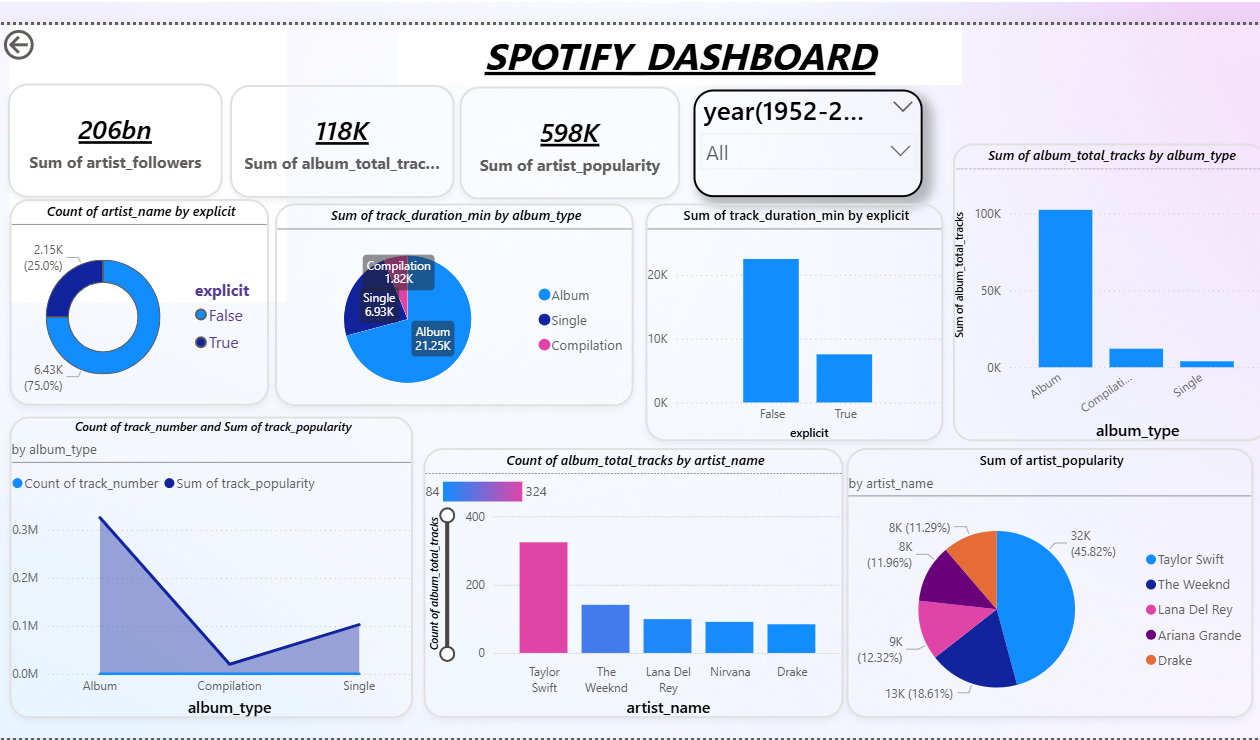

Layout of this report page (visuals, bound fields, positions):
{"tool":"powerbi","page":{"name":"Spotify_Dashboard","canvas":[1280,720],"ordinal":0},"visuals":[{"type":"textbox","box":[10,0,280,280],"z":0},{"type":"textbox","box":[402.8,0,569.3,60.6],"z":1000},{"type":"card","fields":{"Values":["spotify_data clean.artist_followers"]},"box":[9.1,59.1,216.5,115.1],"z":2000},{"type":"card","fields":{"Values":["spotify_data clean.album_total_tracks"]},"box":[233.3,60.4,226.4,113.9],"z":3000},{"type":"card","fields":{"Values":["spotify_data clean.artist_popularity"]},"box":[464.3,61.4,222.9,114.3],"z":4000},{"type":"donutChart","fields":{"Category":["spotify_data clean.explicit"],"Y":["spotify_data clean.artist_name"]},"box":[10.6,175.6,262,209],"z":5000},{"type":"columnChart","fields":{"Category":["spotify_data clean.album_type"],"Y":["spotify_data clean.album_total_tracks"]},"box":[963.4,119.4,317,300.5],"z":6000},{"type":"slicer","fields":{"Values":["spotify_data clean.year"]},"box":[701.4,65.7,231.4,108.6],"z":7000},{"type":"clusteredColumnChart","fields":{"Category":["spotify_data clean.artist_name"],"Y":["spotify_data clean.album_total_tracks"]},"box":[428.5,427,424,272.6],"z":8000},{"type":"areaChart","fields":{"Category":["spotify_data clean.album_type"],"Y":["spotify_data clean.track_number","spotify_data clean.track_popularity"]},"box":[10.6,395.2,407.3,304.4],"z":9000},{"type":"pieChart","fields":{"Category":["spotify_data clean.artist_name"],"Y":["spotify_data clean.artist_popularity"]},"box":[855.5,427,410.3,272.6],"z":10000},{"type":"lineStackedColumnComboChart","fields":{"Category":["spotify_data clean.explicit"],"Y":["spotify_data clean.track_duration_min"]},"box":[653.2,179.8,300.5,240.2],"z":11000},{"type":"pieChart","fields":{"Category":["spotify_data clean.album_type","spotify_data clean.track_duration_min"],"Y":["spotify_data clean.track_duration_min"]},"box":[278.6,180.2,361.9,204.4],"z":12000},{"type":"actionButton","box":[0,0,100,40],"z":13000}]}

Visuals, with their boxes on the page's 1280x720 design canvas (x1, y1, x2, y2). These are canvas units, not pixel positions in the 1260x740 screenshot, which may show the page scaled, cropped or inside an application window:
textbox: x1=10, y1=0, x2=290, y2=280
textbox: x1=403, y1=0, x2=972, y2=61
card - spotify_data clean.artist_followers: x1=9, y1=59, x2=226, y2=174
card - spotify_data clean.album_total_tracks: x1=233, y1=60, x2=460, y2=174
card - spotify_data clean.artist_popularity: x1=464, y1=61, x2=687, y2=176
donutChart - spotify_data clean.explicit x spotify_data clean.artist_name: x1=11, y1=176, x2=273, y2=385
columnChart - spotify_data clean.album_type x spotify_data clean.album_total_tracks: x1=963, y1=119, x2=1280, y2=420
slicer - spotify_data clean.year: x1=701, y1=66, x2=933, y2=174
clusteredColumnChart - spotify_data clean.artist_name x spotify_data clean.album_total_tracks: x1=428, y1=427, x2=852, y2=700
areaChart - spotify_data clean.album_type x spotify_data clean.track_number: x1=11, y1=395, x2=418, y2=700
pieChart - spotify_data clean.artist_name x spotify_data clean.artist_popularity: x1=856, y1=427, x2=1266, y2=700
lineStackedColumnComboChart - spotify_data clean.explicit x spotify_data clean.track_duration_min: x1=653, y1=180, x2=954, y2=420
pieChart - spotify_data clean.album_type x spotify_data clean.track_duration_min: x1=279, y1=180, x2=640, y2=385
actionButton: x1=0, y1=0, x2=100, y2=40
